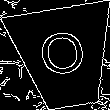O_S: (37, 29, 91, 86)
